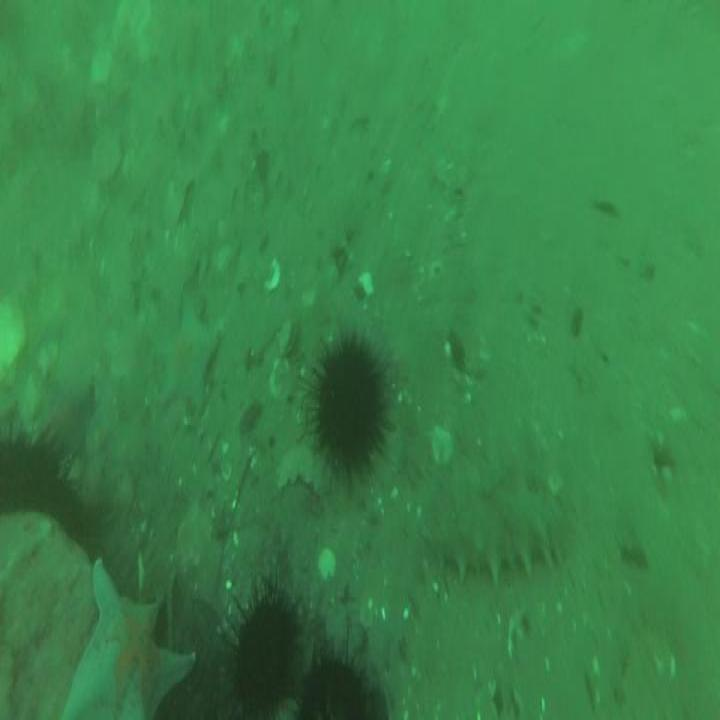echinus: (314, 341, 385, 466), (234, 599, 291, 718), (3, 442, 71, 514), (301, 654, 362, 720)
holothurian: (426, 482, 561, 581)
starfish: (60, 562, 197, 720), (157, 306, 217, 409)
